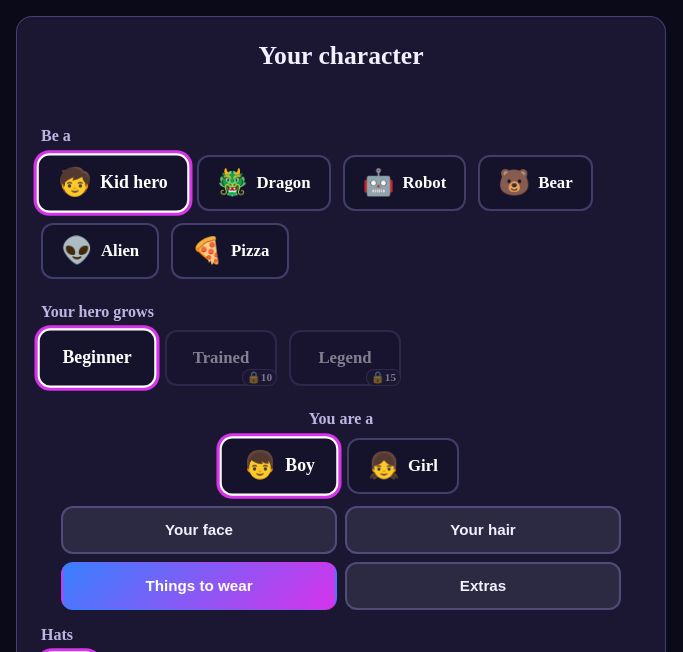
Test: AvatarChooserComponent wardrobe › families that grow (Yobyn, 2026-09-27) › turns into a dragon, which grows instead of dressing up
Click the button with class "swatch" showing "🐲 Dragon" at [264, 183], box [196,155,330,211]
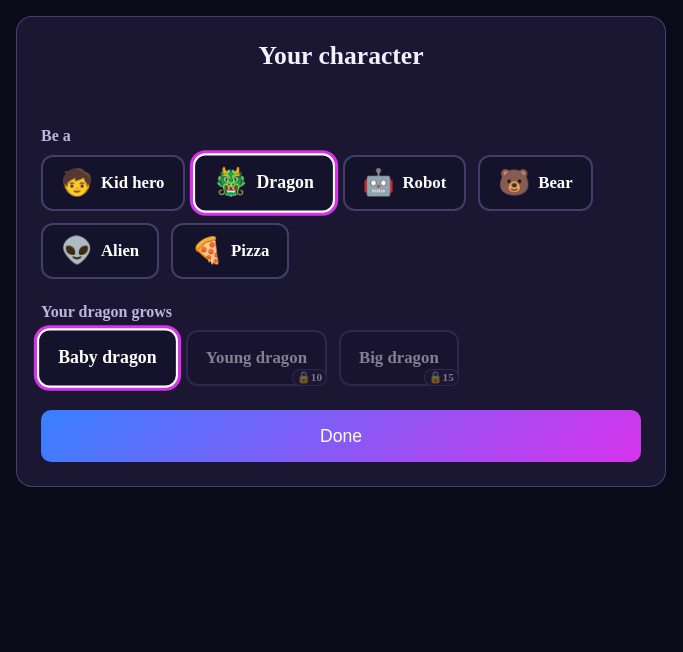
Expected: the element with class "stage-row" is shown, [37,303,459,388]
Expected: the element with class "tabs" is gone
Expected: the element with class "body-row" is gone
